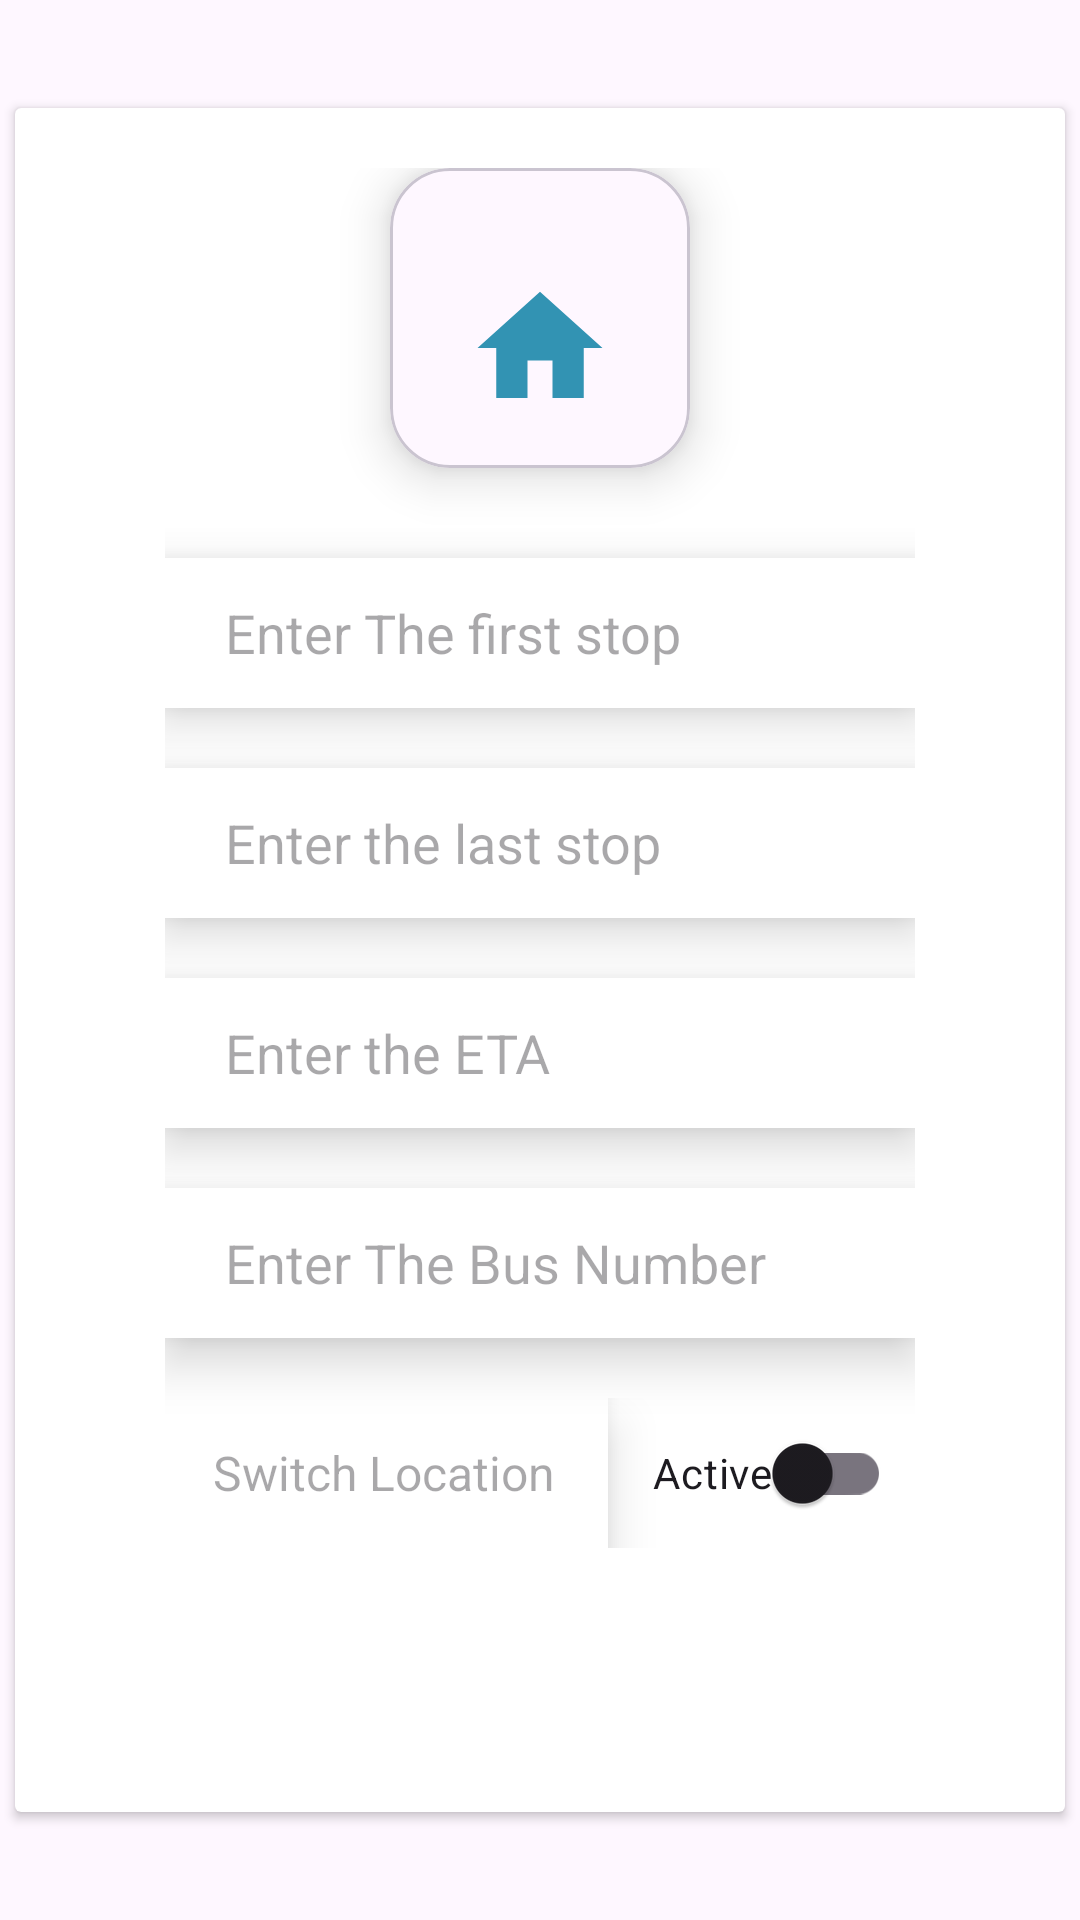

Named icons in this screenshot (1080x1920) and their bounding boxes, (x1, y1, x2, y2):
home: (478, 292, 602, 398)
